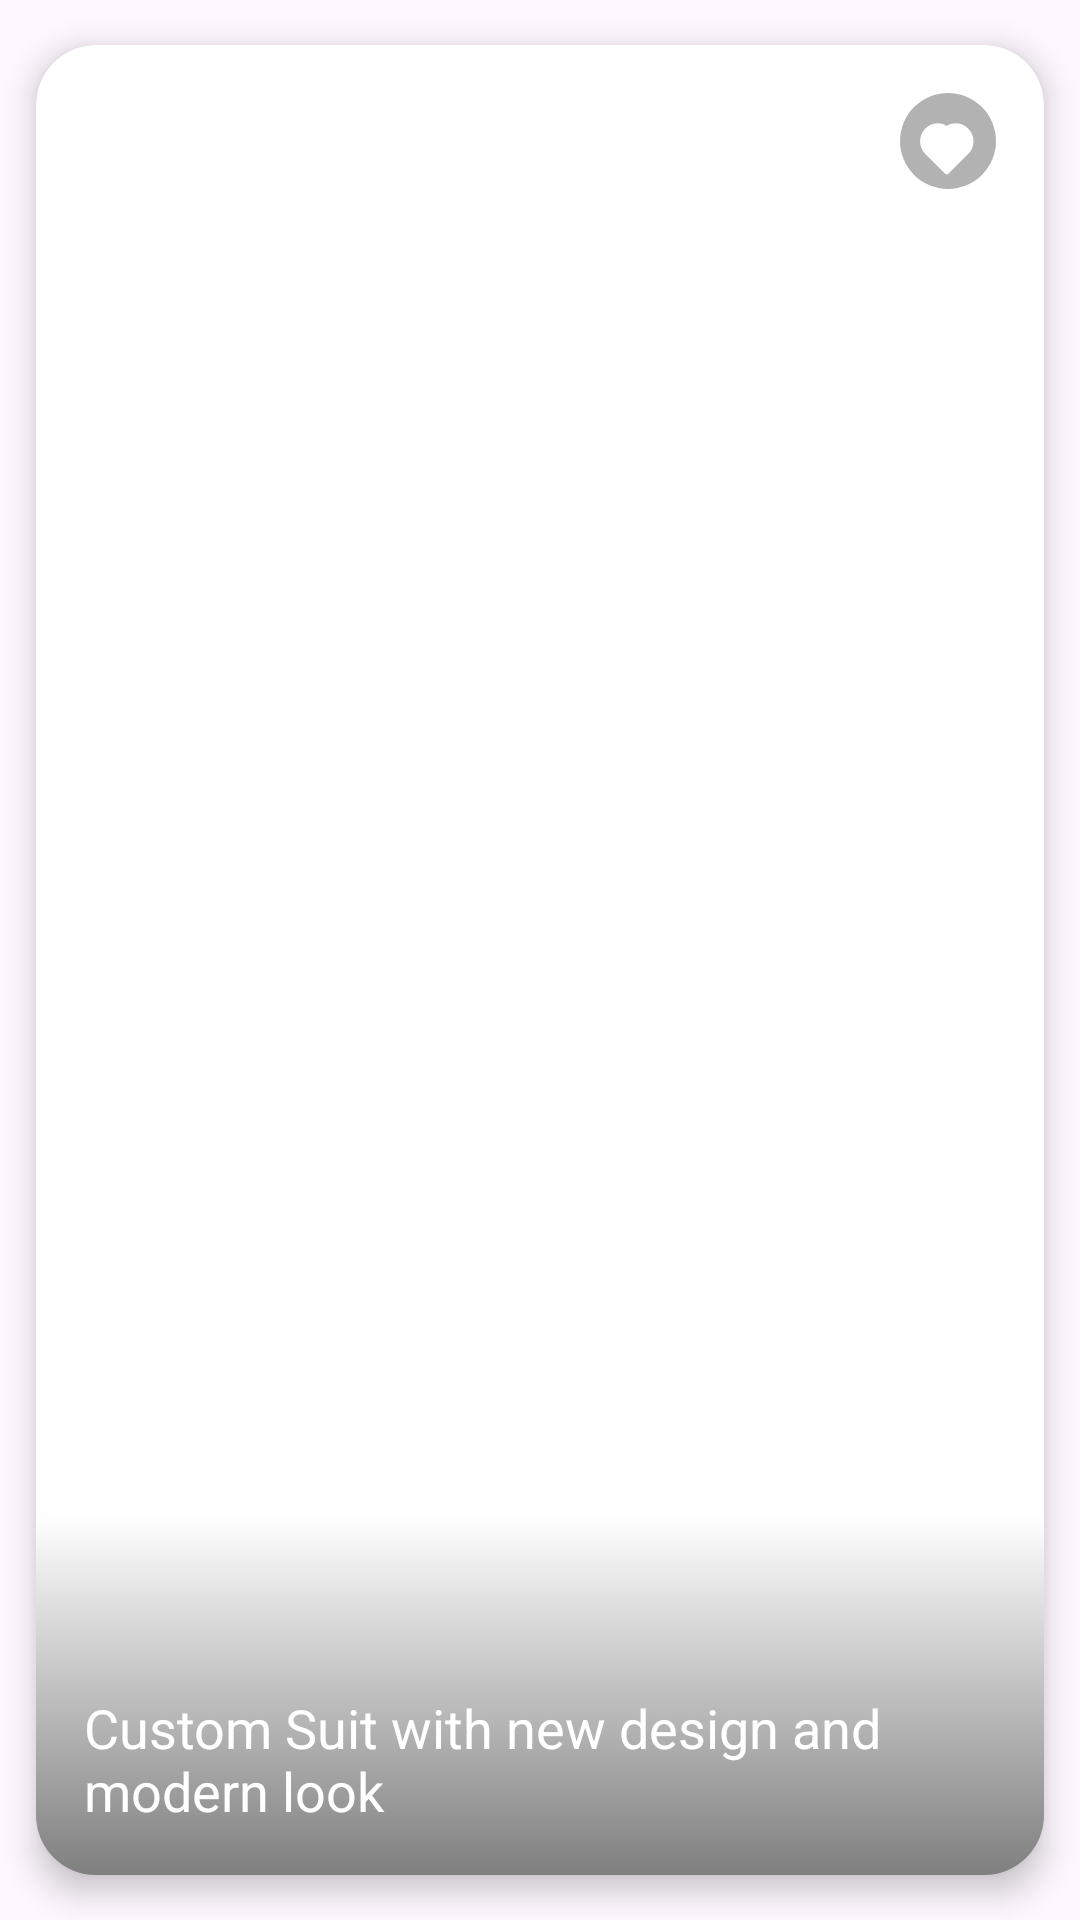

Screen size 1080*1920. Icon name, then its box in pixels as Rect(x1, y1, x2, y2):
favorite border: Rect(900, 93, 996, 189)
